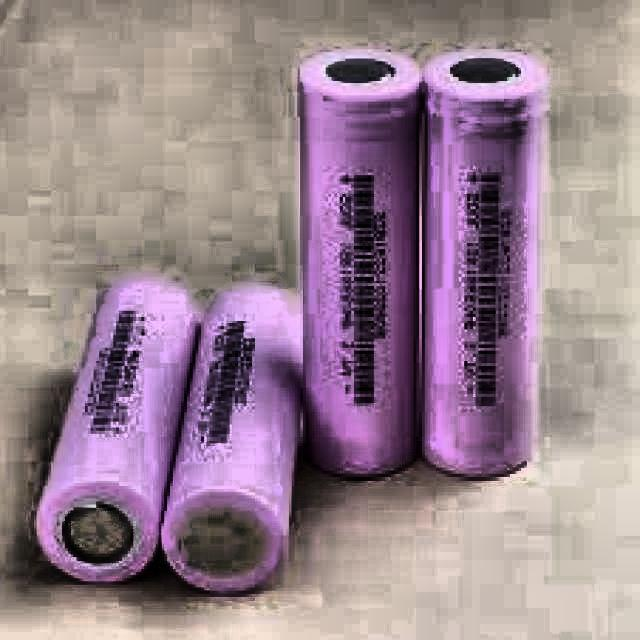battery: (297, 46, 424, 478), (421, 46, 544, 479), (37, 277, 201, 583), (160, 283, 300, 595)
